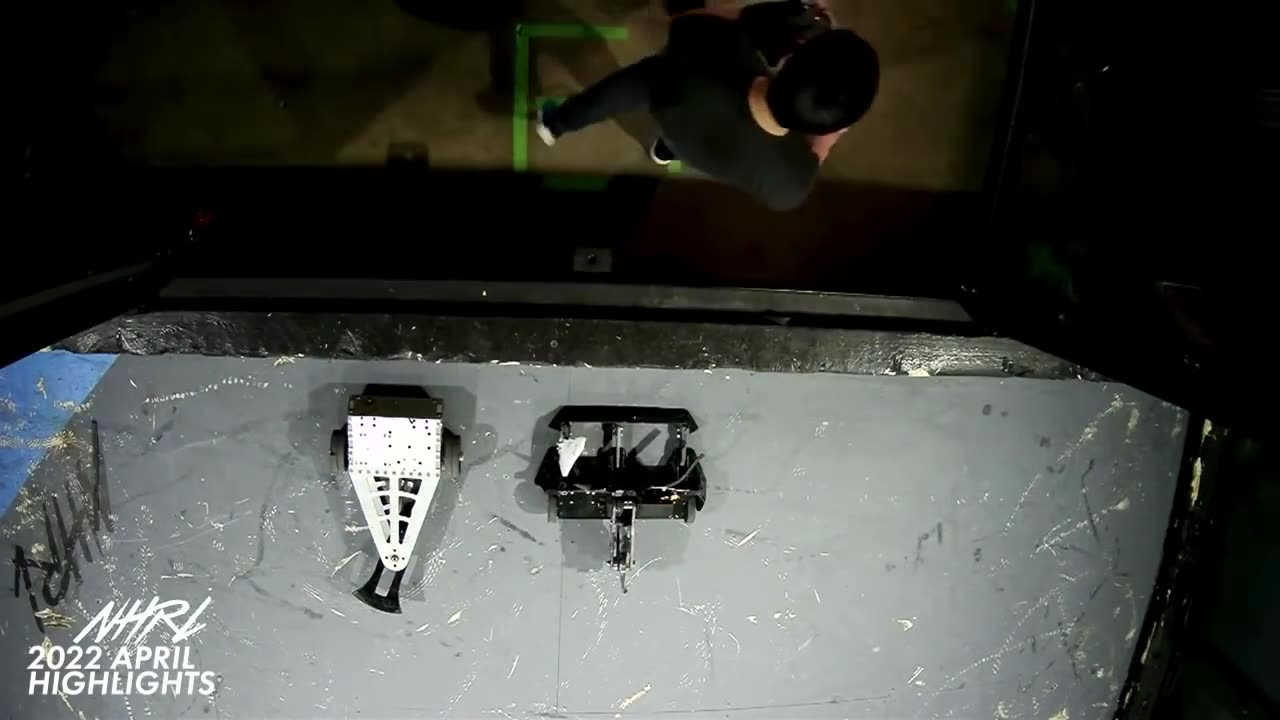combatbot: (536, 403, 711, 525), (333, 416, 456, 569)
